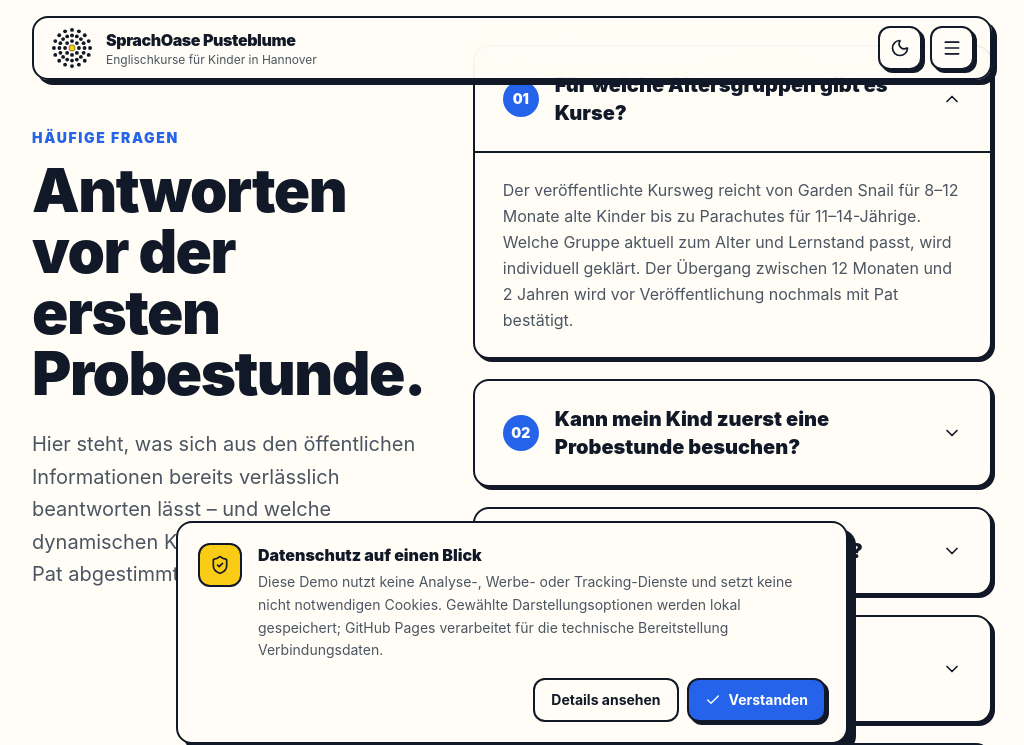
App › opens a FAQ answer
Click the button "Kann mein Kind zuerst eine Probestunde besuchen?" at (732,432), box [475, 380, 990, 484]
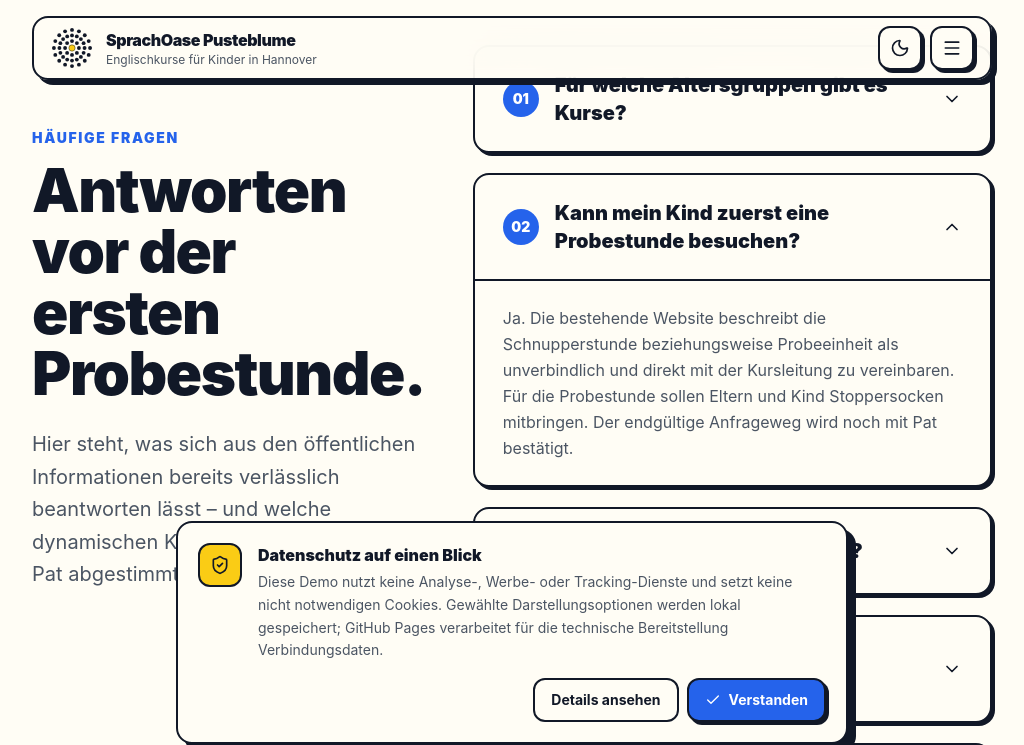
Result: the text "bestehende Website beschreibt die Schnupperstunde" is shown at [503, 308, 954, 458]
